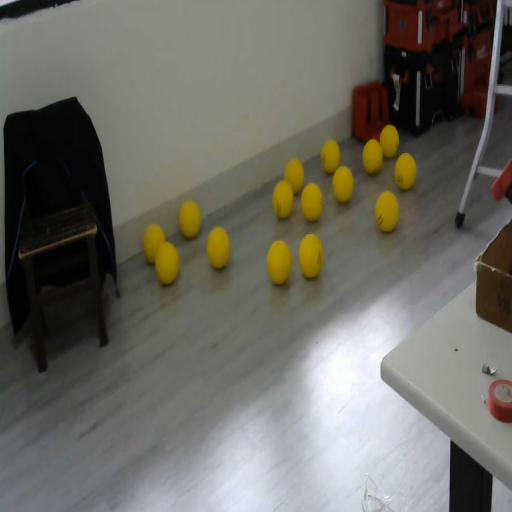FUEL: (298, 232, 324, 280), (266, 238, 292, 284), (154, 240, 180, 285), (206, 226, 230, 270), (374, 190, 399, 232), (178, 198, 202, 240), (300, 181, 323, 222), (272, 180, 294, 220), (394, 152, 416, 191), (283, 157, 305, 195), (332, 166, 354, 204), (362, 139, 383, 175), (320, 138, 340, 174), (379, 124, 400, 158)
